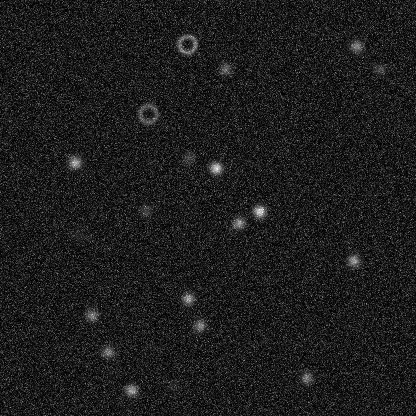Ring: (136, 101, 160, 125), (175, 32, 199, 56)
Spot: (217, 61, 233, 77), (191, 317, 207, 333), (180, 290, 196, 306), (137, 202, 153, 218), (371, 61, 387, 77), (251, 203, 267, 219), (207, 160, 223, 176), (99, 343, 115, 359), (298, 369, 314, 385), (180, 149, 196, 165), (123, 382, 139, 398), (348, 38, 364, 54), (165, 376, 181, 392), (345, 252, 361, 268), (83, 307, 99, 323), (230, 214, 246, 230), (67, 154, 83, 170), (70, 225, 86, 241)
